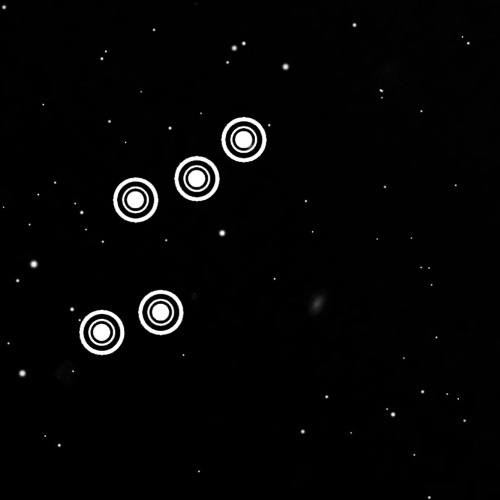lyra: (67, 100, 273, 362)
